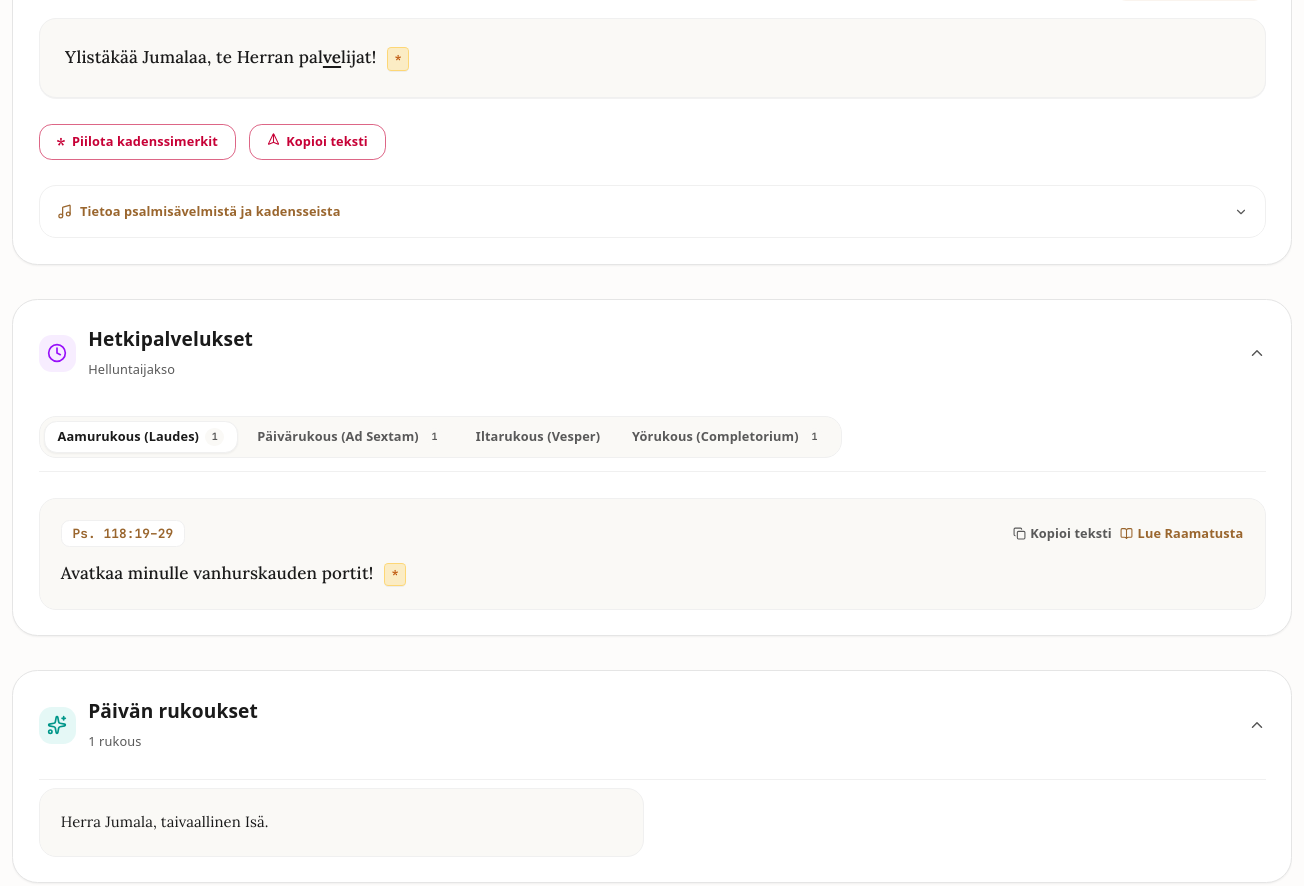
Test: LiturgicalView › displays prayer offices and allows switching between tabs
The width and height of the screenshot is (1304, 886).
(page scrolled)
Click the button "Päivärukous (Ad Sextam) 1". click: (351, 437)
box: [244,421,457,453]
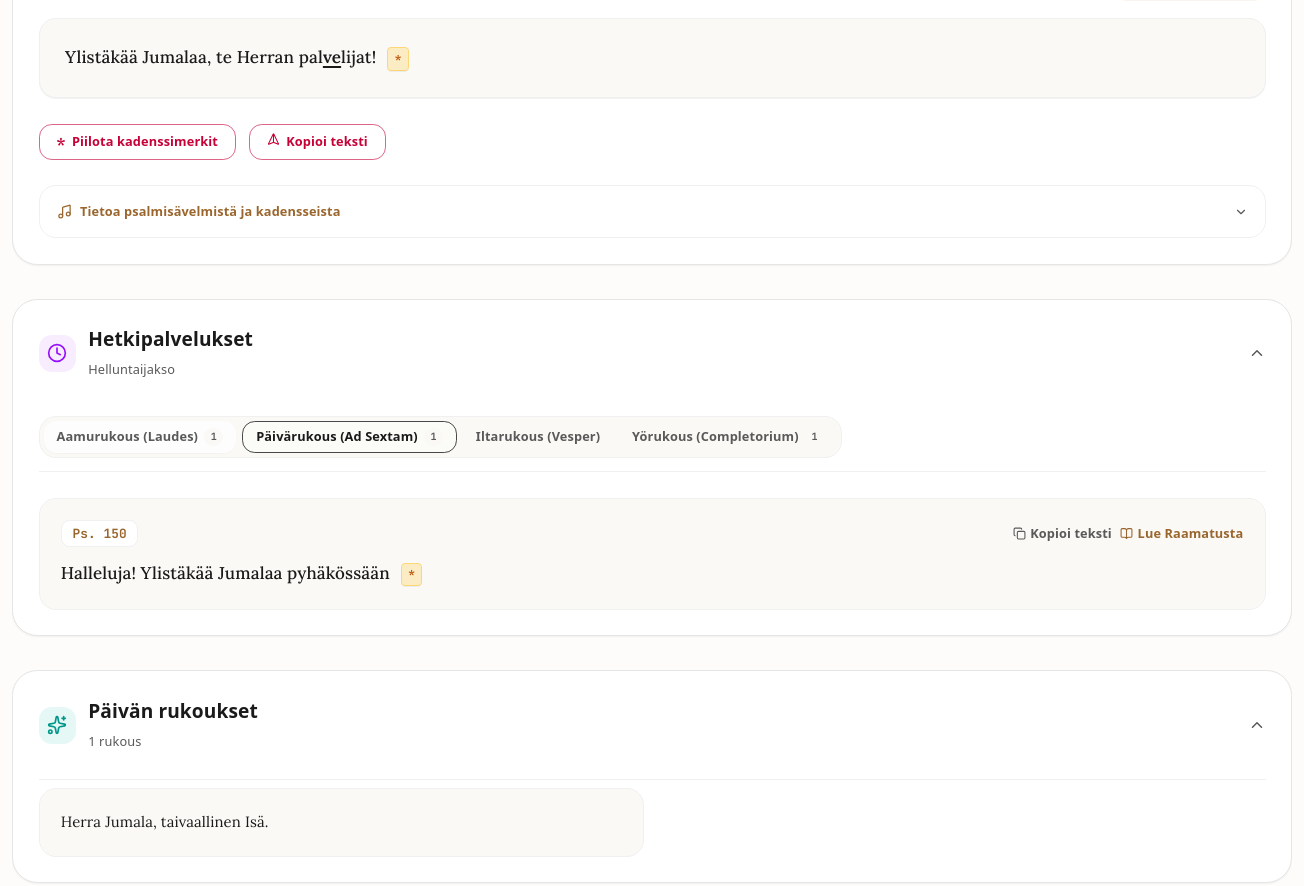
Expected: the text "Ps. 150" is shown, [61,520,138,547]
Click the button "Yörukous (Completorium) 1". click: (728, 437)
box: [619,421,837,453]
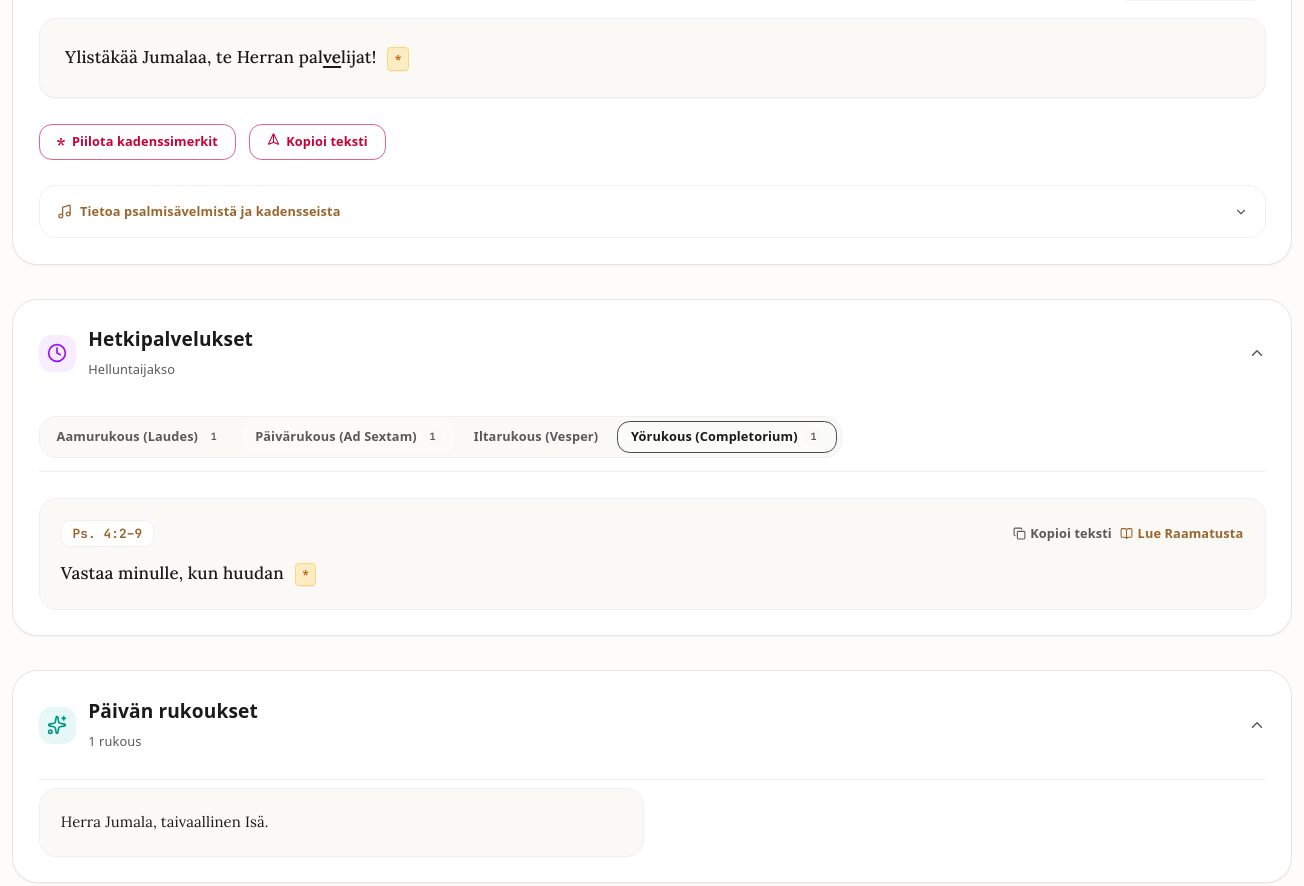
Expected: the text "Ps. 4:2–9" is shown, [61,520,154,547]
